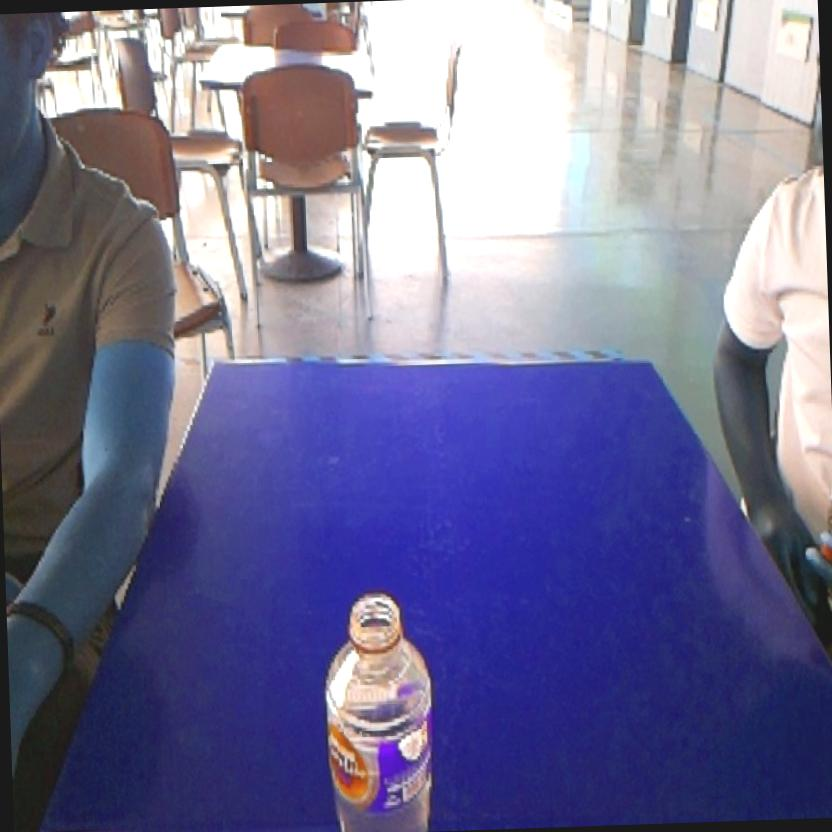no_cap: (306, 576, 445, 832)
